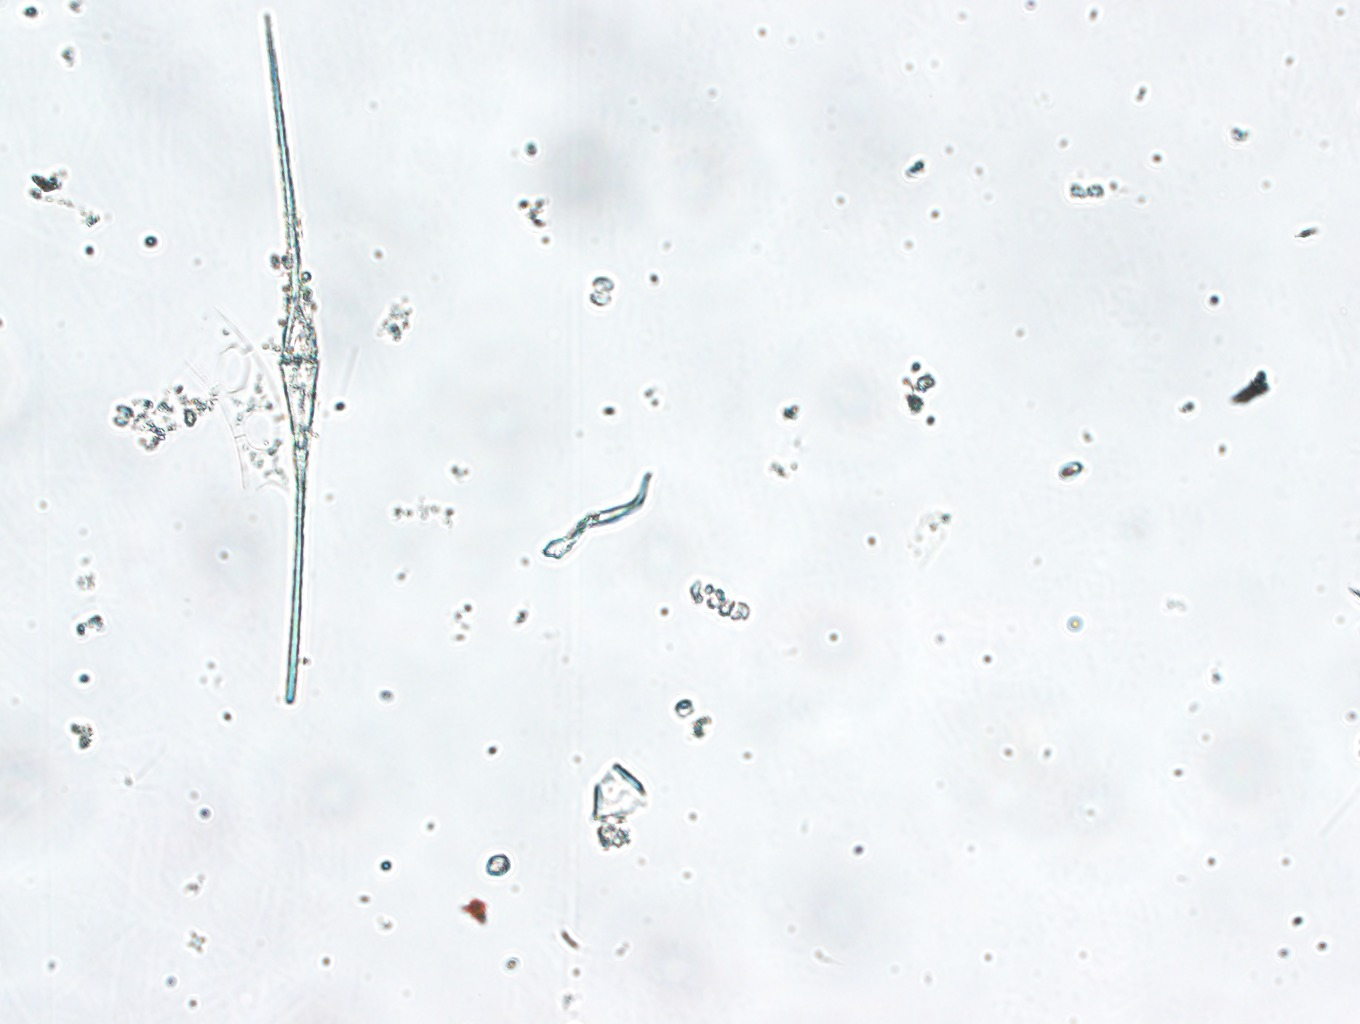ceratium fusus: (245, 11, 337, 709)
eucampia: (178, 302, 302, 504)
